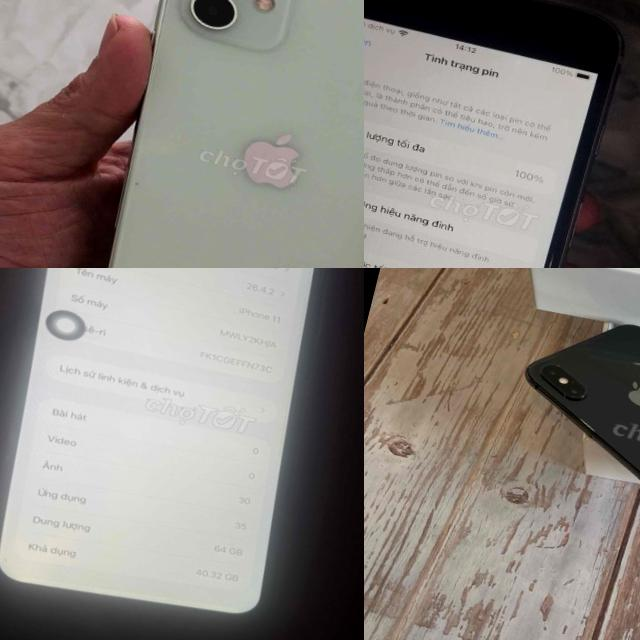gen_11: (0, 268, 364, 640)
gen_12_13: (64, 0, 364, 268)
gen_6: (364, 0, 640, 268)
gen_x_xs: (525, 325, 640, 479)
